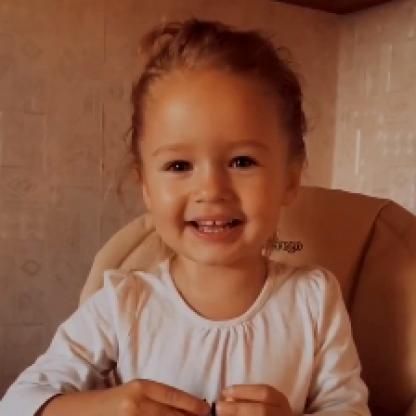child: (1, 17, 373, 416)
